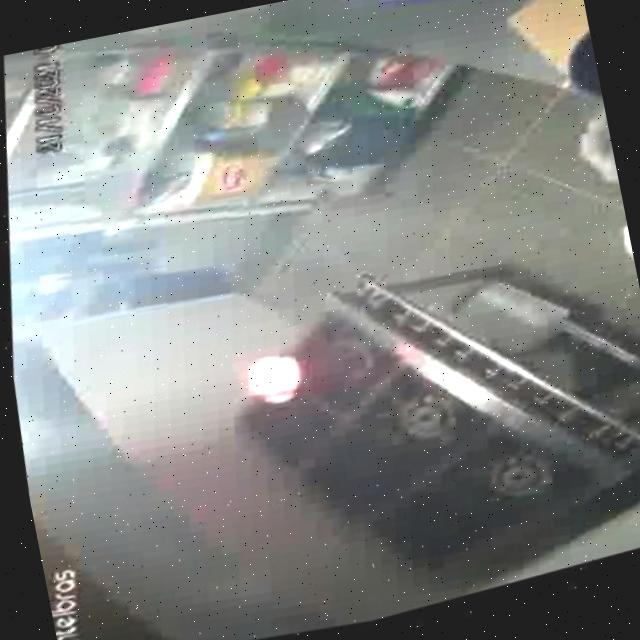fire: (188, 314, 355, 442)
